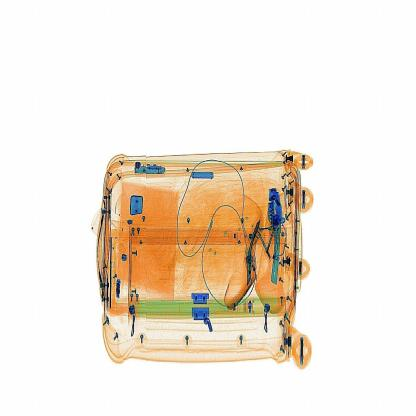scissors: (263, 182, 292, 231)
